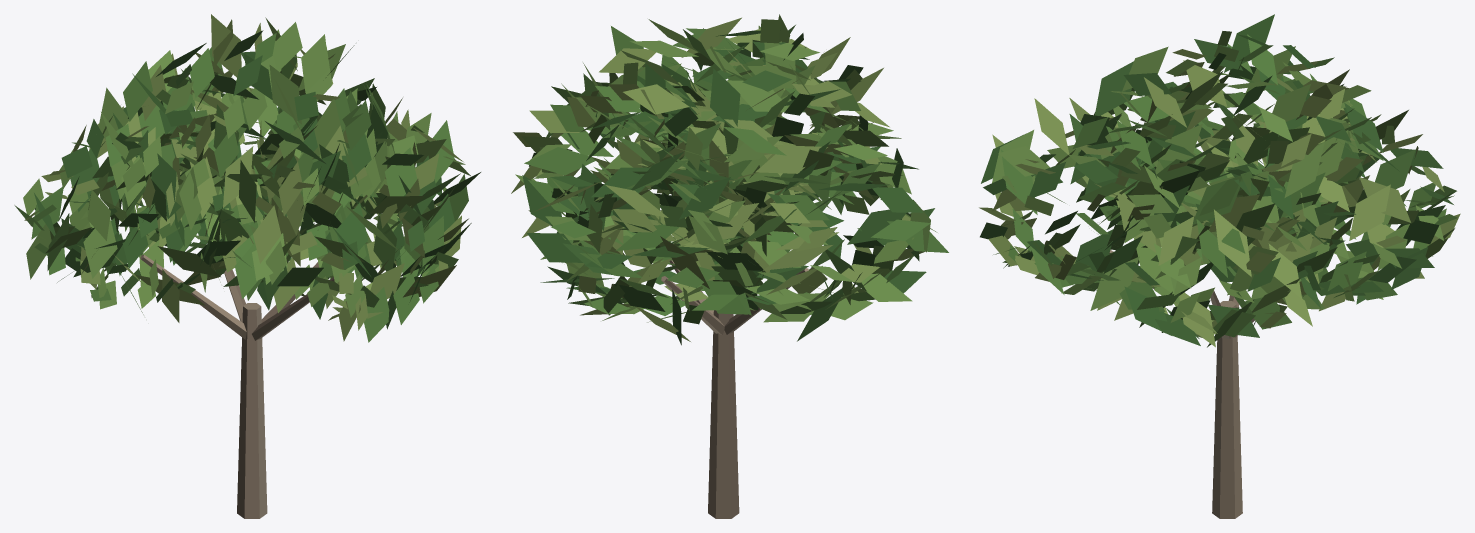
Rendered from tree_garden.gltf.
The picture shows the model from 3 angles, left to right: view 1: azimuth 30°, elevation 25°; view 2: azimuth 150°, elevation 25°; view 3: azimuth 270°, elevation 25°; orthographic projection. The views are drawn at different scales.
Visible parts, largest first — view 1: GardenTree; view 2: GardenTree; view 3: GardenTree.
Boxes of the visible parts, bbox=[...] form: GardenTree: bbox=[14, 14, 480, 518]; GardenTree: bbox=[511, 14, 948, 518]; GardenTree: bbox=[979, 14, 1460, 518].
Bounding box in the file's own units: 4.97 × 5.41 × 5.02.
